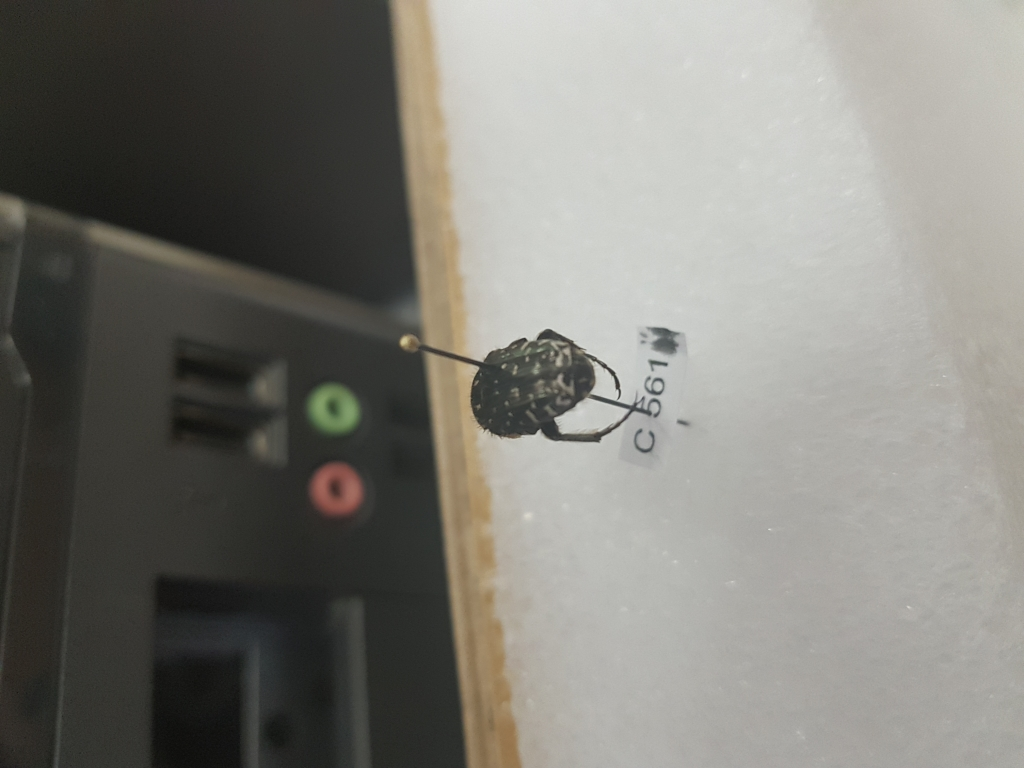Oxythyrea_funesta: (467, 326, 645, 453)
